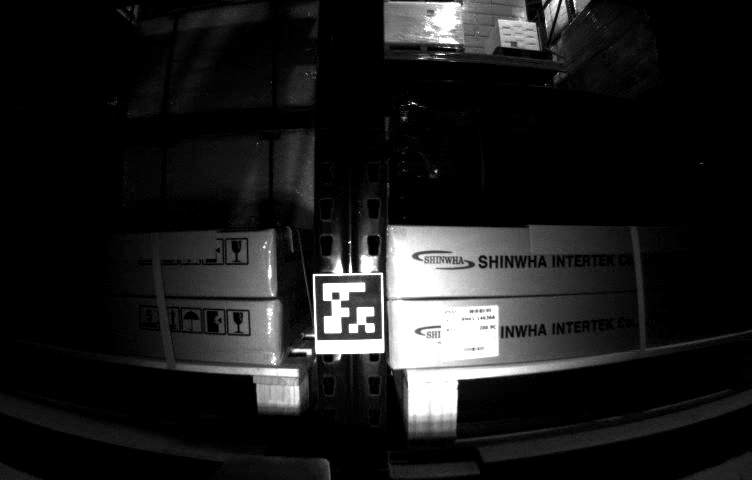True Barcode: (440, 306, 499, 356)
